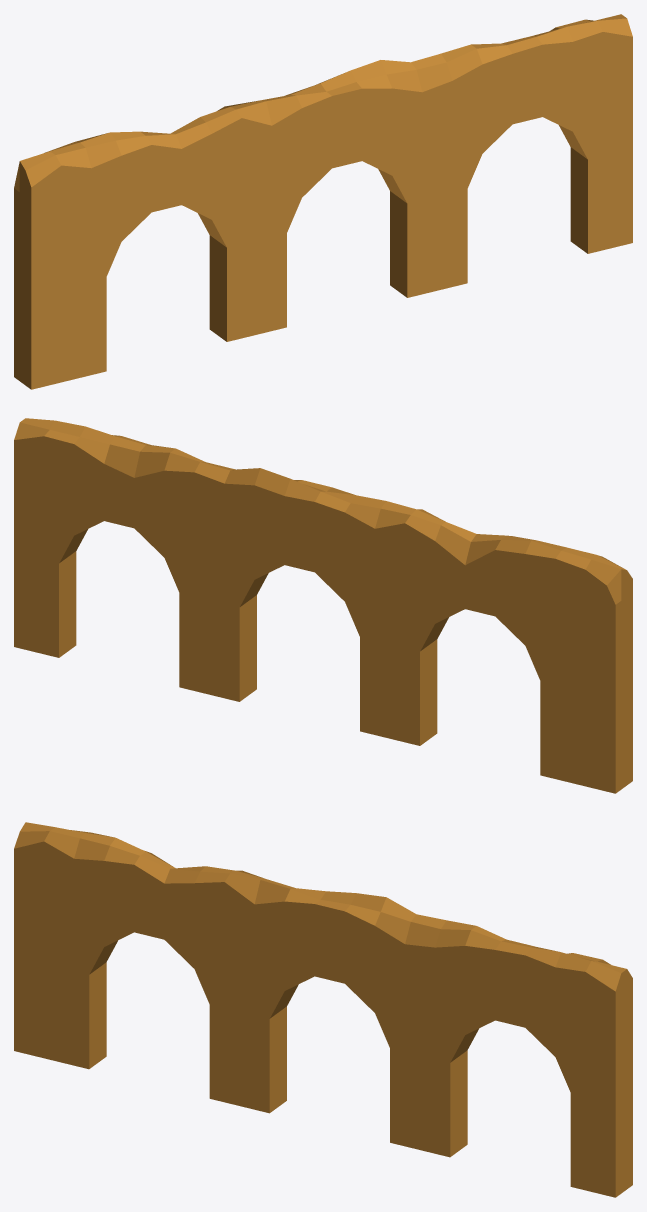
The model's file is Arch1.fbx.
3 views of the same model, one above another, from view 1: azimuth 30°, elevation 25°; view 2: azimuth 150°, elevation 25°; view 3: azimuth 330°, elevation 25° (orthographic).
Parts seen in each view (by area): view 1: Wall 2; view 2: Wall 2; view 3: Wall 2.
Boxes of the visible parts, x1,y1,x2,y2 form: Wall 2: [14, 14, 632, 389]; Wall 2: [14, 418, 632, 793]; Wall 2: [14, 822, 632, 1197].
Bounding box in the file's own units: 400 × 148 × 20.
